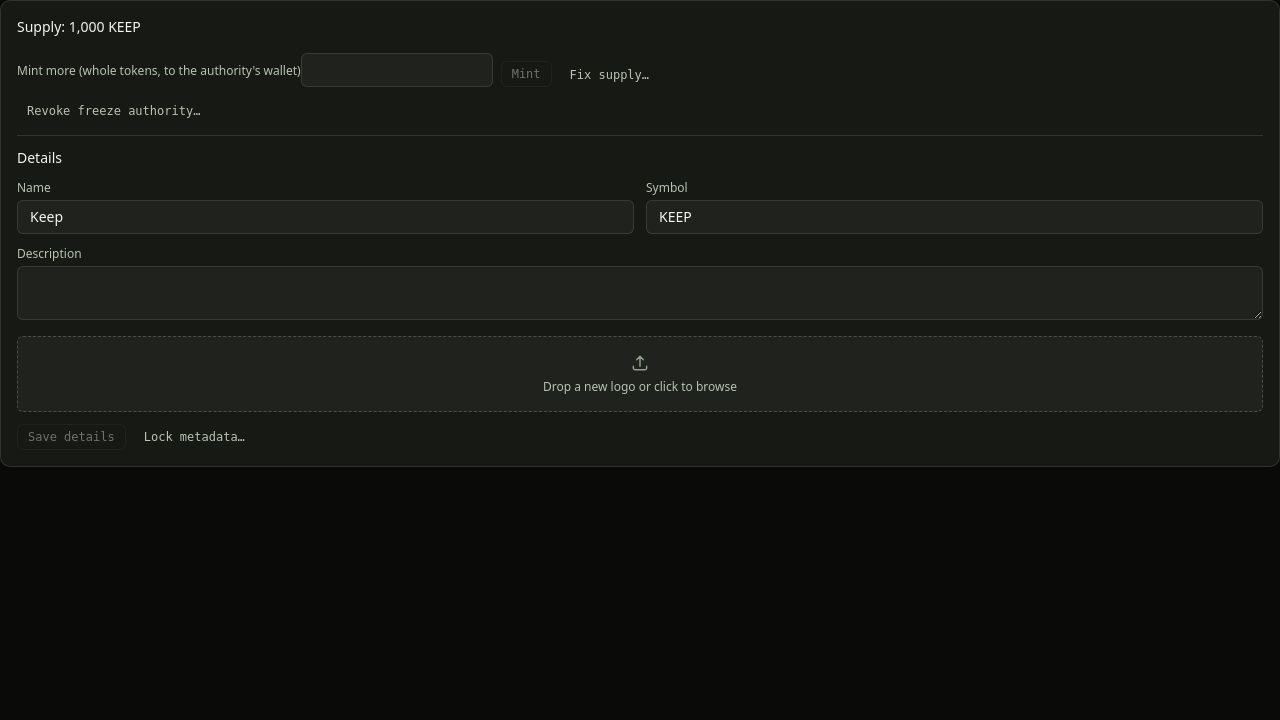
Scenario: SolanaTokenManage › revokes only after an explicit confirmation
Click the button "Fix supply…" at point(609, 75), box [560,63,659,87]
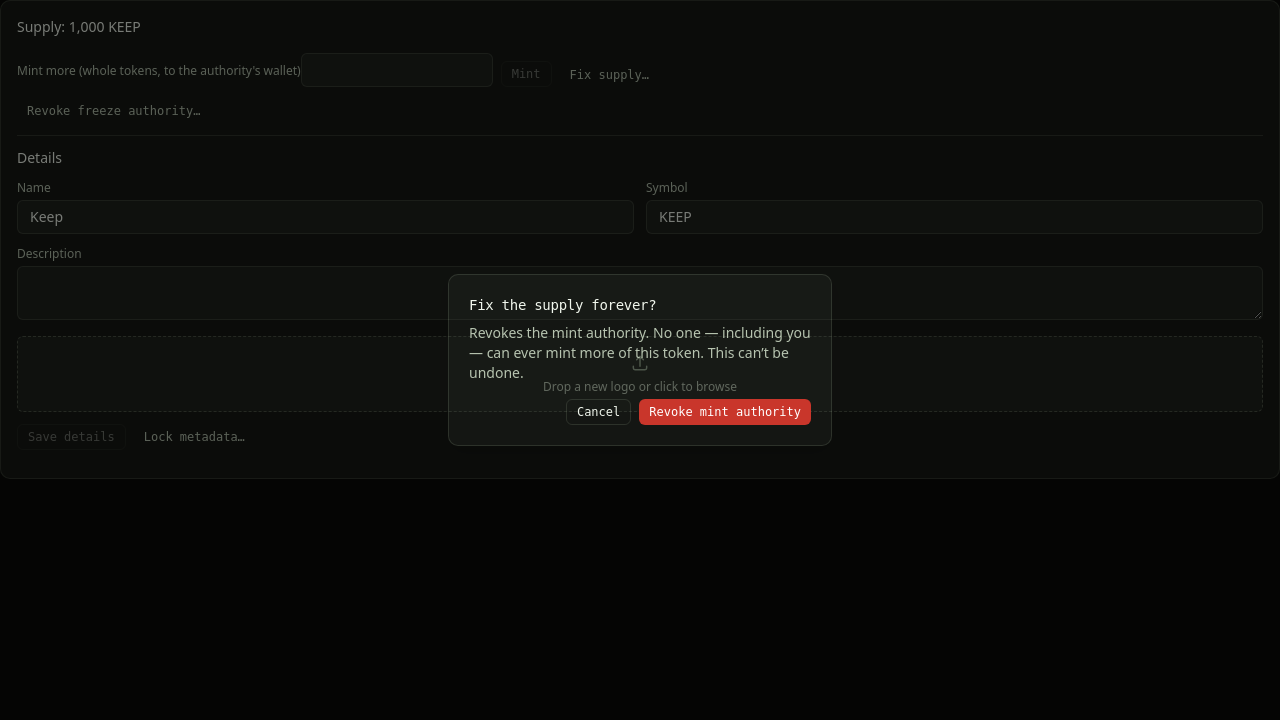
expect the dialog shows "can’t be undone": met, box [469,323,811,382]
Click the button "Revoke mint authority" at point(725, 412), box [639,399,811,425]
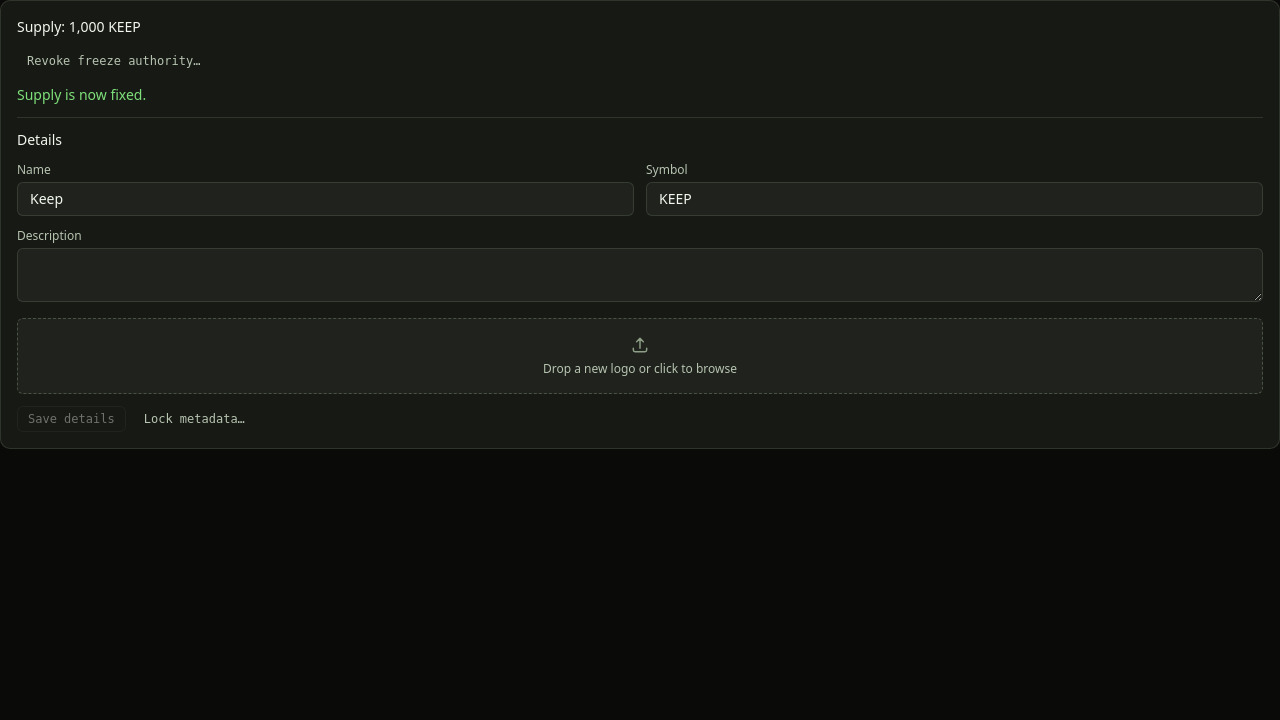
expect the text "Supply is now fixed." is shown: met, box [17,85,146,104]
expect the label "Mint" is gone: met
